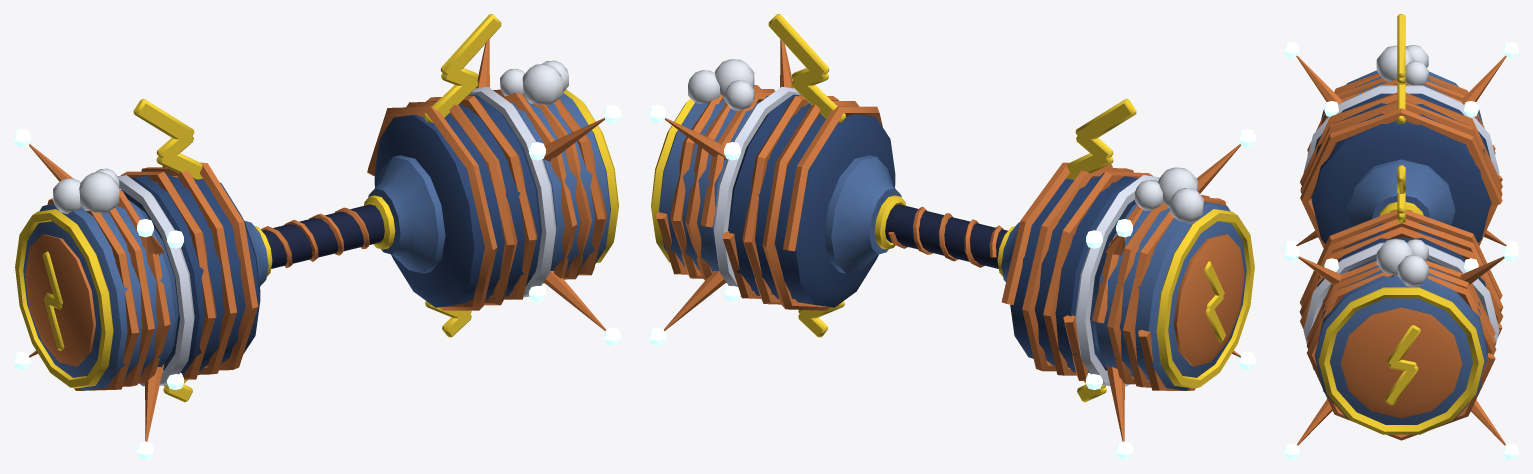
The model's file is db_12_storm.glb.
The picture shows the model from 3 angles, left to right: view 1: azimuth 30°, elevation 25°; view 2: azimuth 150°, elevation 25°; view 3: azimuth 270°, elevation 25°; orthographic projection. The views are drawn at different scales.
Visible parts, largest first — view 1: db_12_storm; view 2: db_12_storm; view 3: db_12_storm.
Part boxes in pixels (<box>): db_12_storm: <box>14,14,620,459</box>; db_12_storm: <box>649,14,1255,459</box>; db_12_storm: <box>1284,14,1518,459</box>.
Size of the model in its own units: 4.66 by 2.62 by 2.
